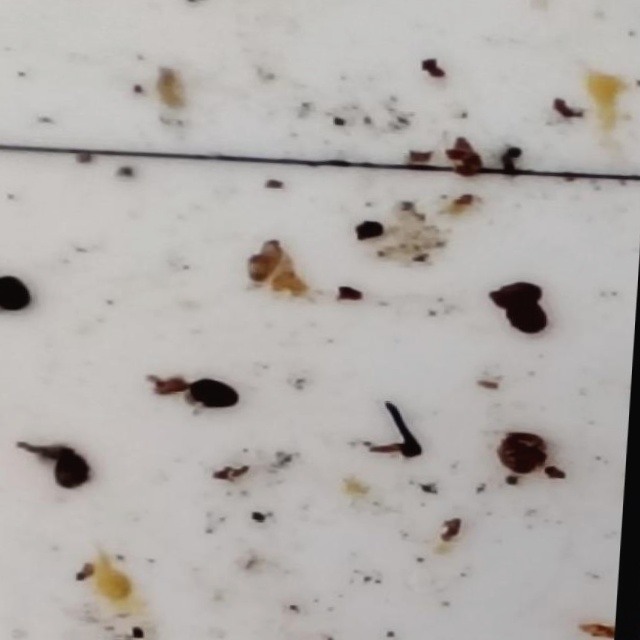varroa: (187, 377, 244, 411), (52, 449, 96, 492), (505, 298, 550, 336), (491, 279, 544, 307)
